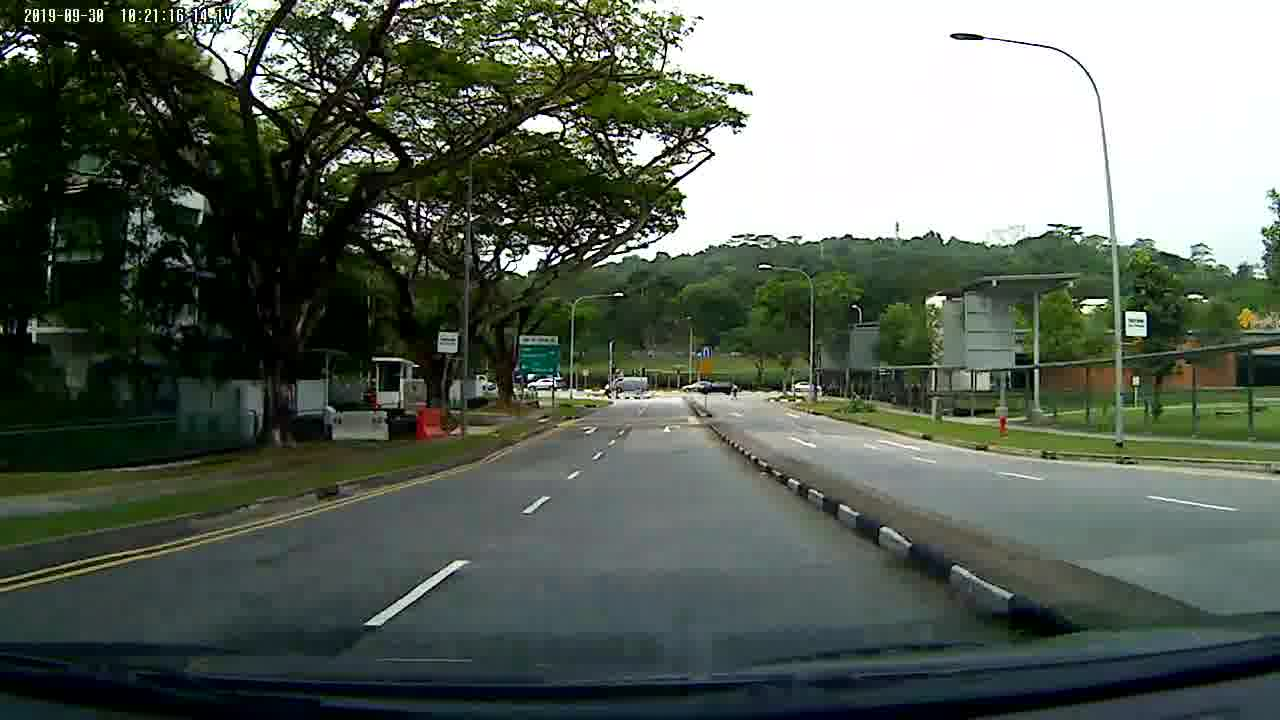car: (526, 377, 565, 390)
